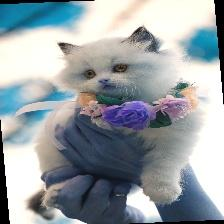kedo: (55, 27, 178, 97)
